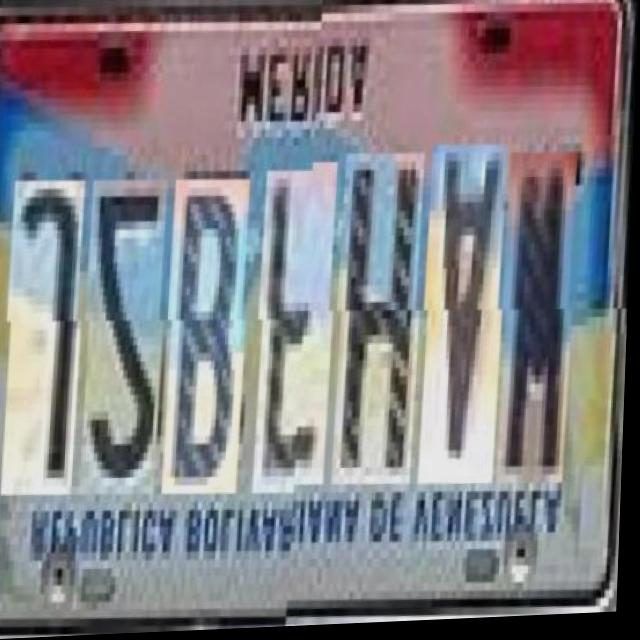2: (82, 169, 172, 489)
a: (420, 143, 511, 487)
b: (166, 168, 254, 488)
f: (256, 160, 341, 488)
h: (334, 151, 429, 487)
j: (4, 170, 89, 489)
w: (499, 151, 581, 486)
